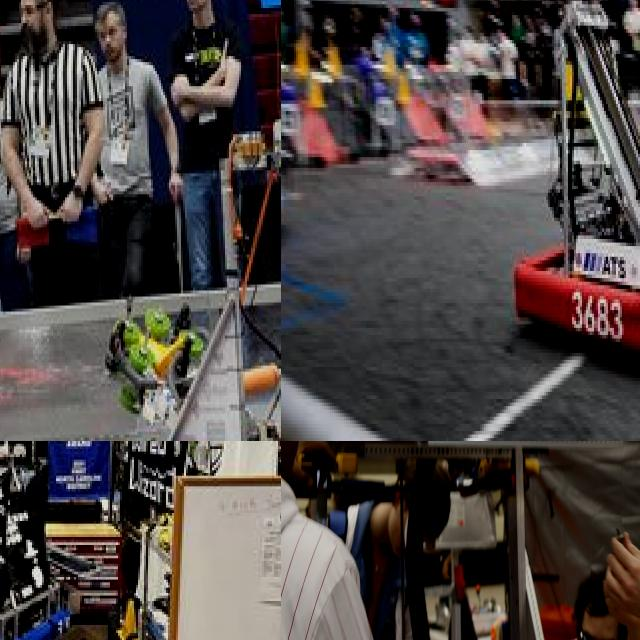FRC-Robots: (64, 50, 281, 441), (516, 0, 640, 377), (0, 441, 85, 640)
